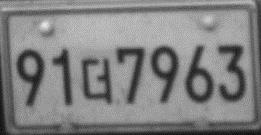1: (47, 47, 81, 106)
3: (214, 43, 248, 102)
6: (181, 43, 214, 103)
7: (115, 45, 146, 105)
9: (14, 48, 46, 107), (149, 45, 180, 103)
더: (79, 55, 114, 104)
